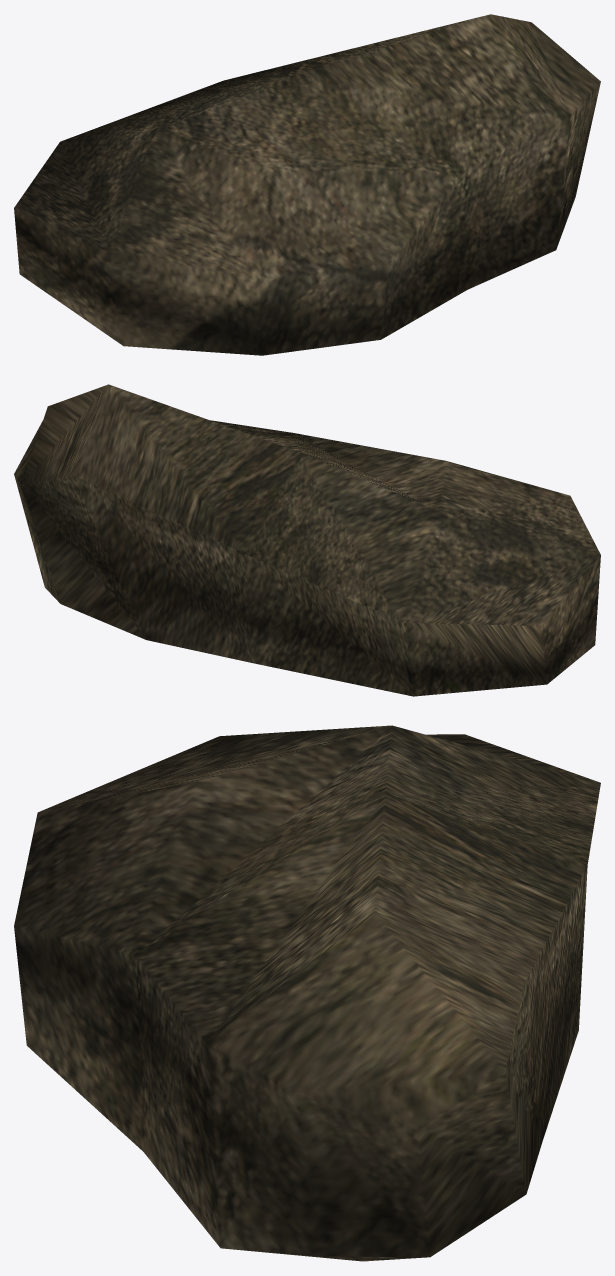
Rendered from LCRG_Rock05.fbx.
3 renders of one model, top to bottom at view 1: azimuth 30°, elevation 25°; view 2: azimuth 150°, elevation 25°; view 3: azimuth 270°, elevation 25°, orthographic. The views are drawn at different scales.
Parts seen in each view (by area): view 1: LCRG_Rock05; view 2: LCRG_Rock05; view 3: LCRG_Rock05.
Boxes of the visible parts, box(x1,y1,x2,y2) form: LCRG_Rock05: box(14, 14, 600, 355); LCRG_Rock05: box(14, 384, 600, 696); LCRG_Rock05: box(14, 725, 600, 1261).
Size of the model in its own units: 4.39 by 1.9 by 2.64.
